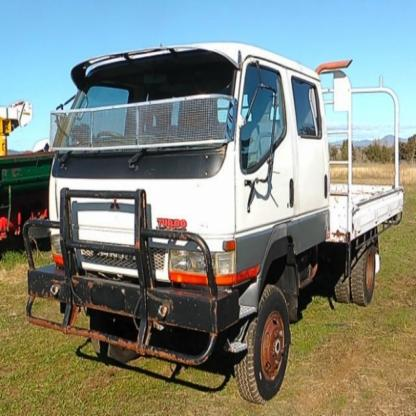truck: (25, 40, 401, 407)
